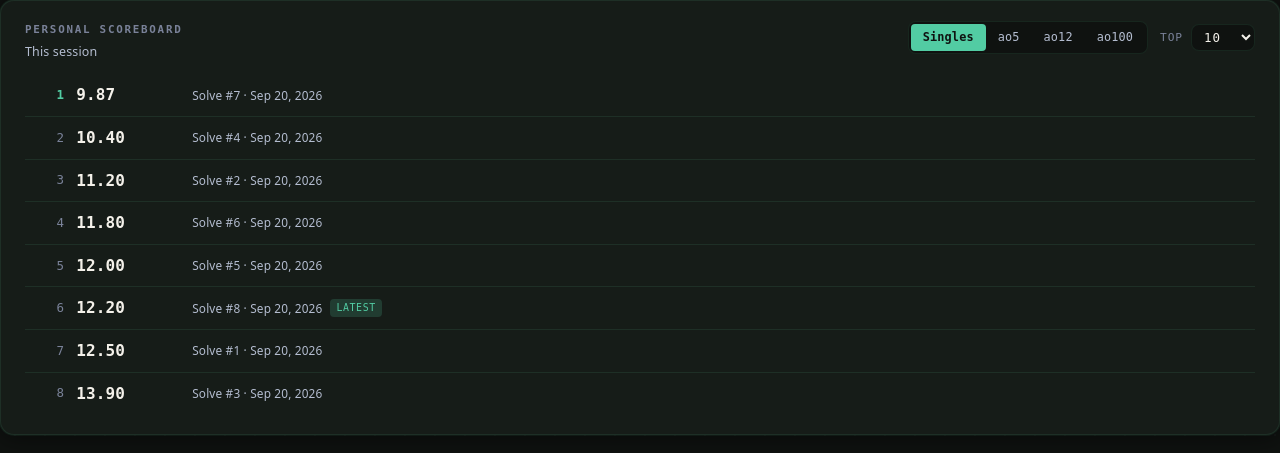
Scenario: the personal scoreboard › ranks ao5s and shows each one’s solves, trimmed ones in parentheses
The image size is (1280, 453).
Click the radio button labelled "ao5".
click(1009, 37)  # box [986,24,1032,51]
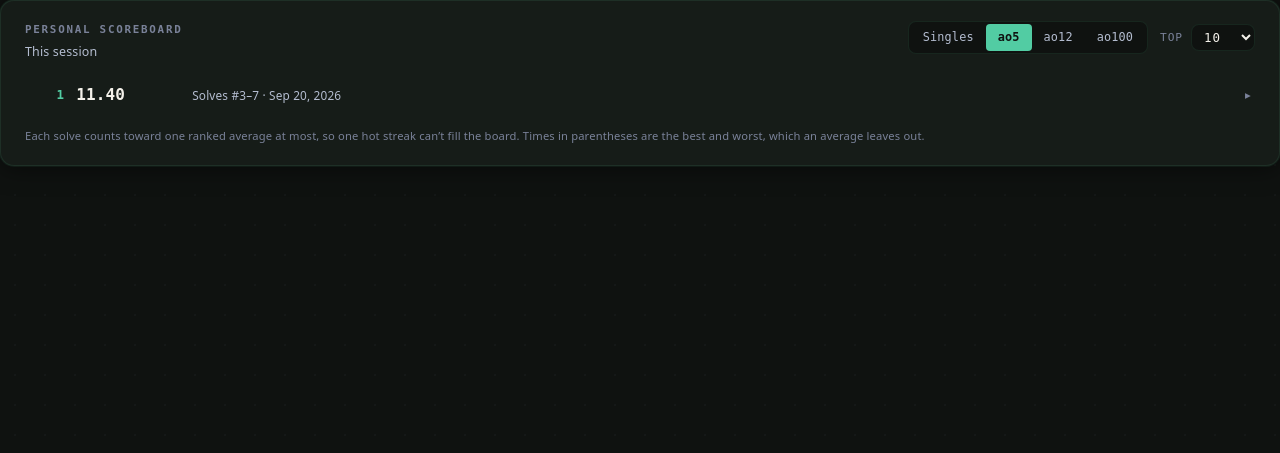
Click the button.
click(101, 95)  # box [25,74,1255,116]
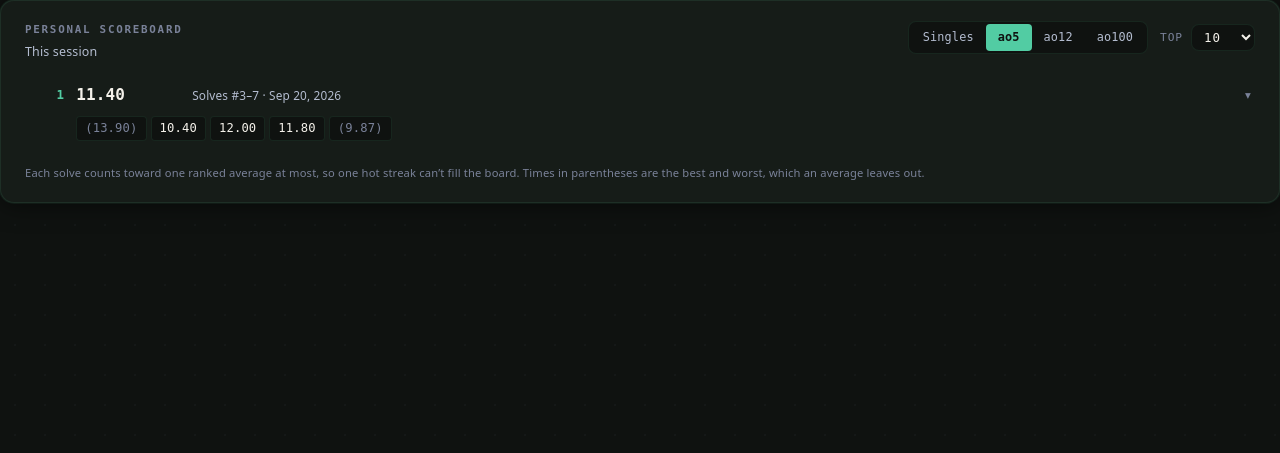
Check: the text "Each solve counts toward one ranked average" is shown, box [25,165,925,180]
Check: the button "(9.87)" is shown, box [329,116,392,141]
